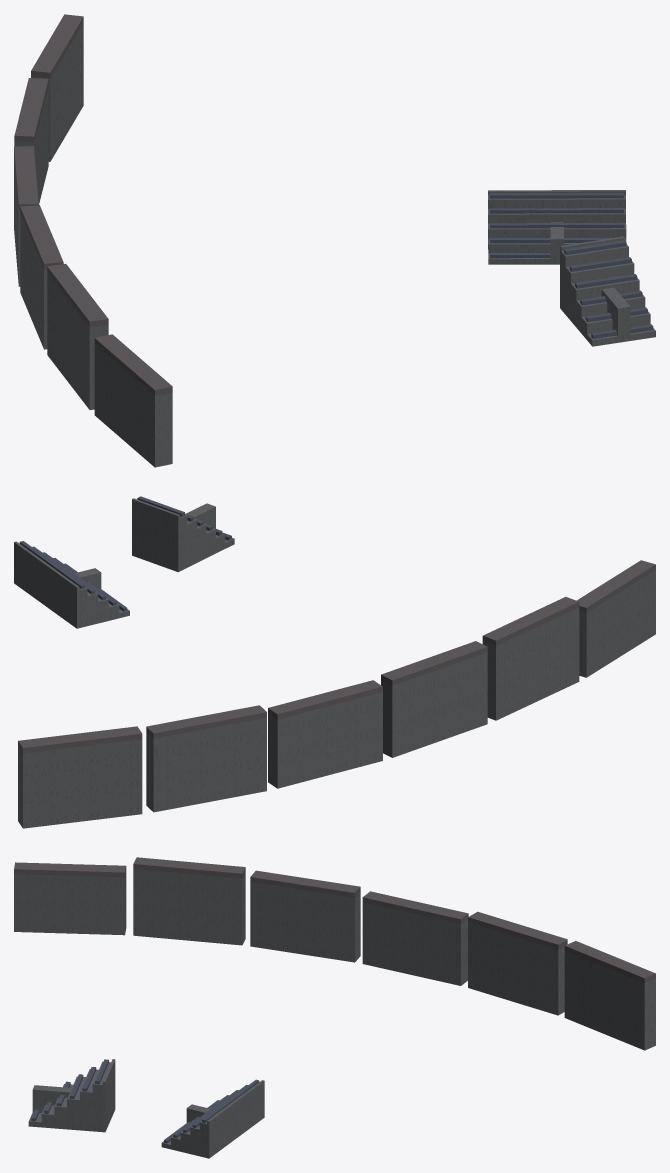
The model's file is SM_City_AlHalqa_3.fbx.
3 views of the same model, one above another, from view 1: azimuth 30°, elevation 25°; view 2: azimuth 150°, elevation 25°; view 3: azimuth 270°, elevation 25° (orthographic). The views are drawn at different scales.
Parts seen in each view (by area): view 1: SM_City_AlHalqa_3; view 2: SM_City_AlHalqa_3; view 3: SM_City_AlHalqa_3.
Boxes of the visible parts, x1=… form: SM_City_AlHalqa_3: x1=14, y1=14, x2=655, y2=467; SM_City_AlHalqa_3: x1=14, y1=496, x2=655, y2=828; SM_City_AlHalqa_3: x1=14, y1=857, x2=655, y2=1158.
Bounding box in the file's own units: 4109 × 593 × 4774.
4 materials, 4 textured.
